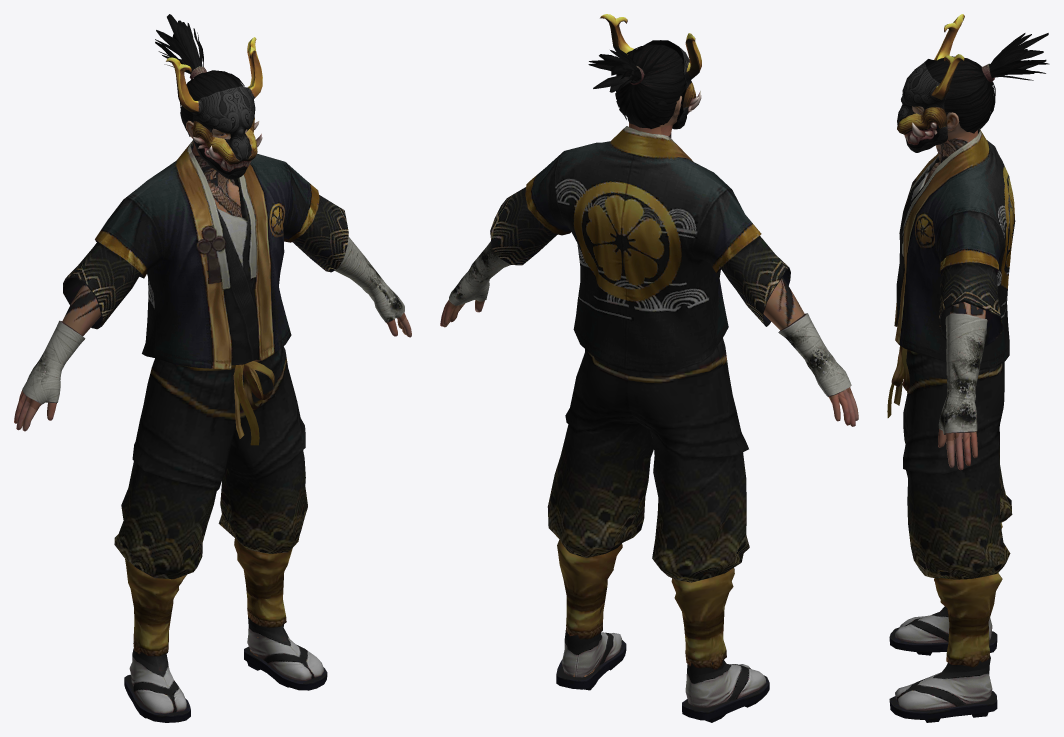
File: season1.glb
3 views of the same model, side by side, from view 1: azimuth 30°, elevation 25°; view 2: azimuth 150°, elevation 25°; view 3: azimuth 270°, elevation 25° (orthographic). The views are drawn at different scales.
Visible parts, largest first — view 1: Object_5, Object_4, Object_3, Object_6, Object_2, Object_7; view 2: Object_5, Object_4, Object_3, Object_7, Object_2, Object_6; view 3: Object_5, Object_4, Object_3, Object_7, Object_6, Object_2.
Part boxes in pixels (x1,y1,x2,y2): Object_5: (22,140,404,404); Object_4: (114,346,307,656); Object_3: (124,617,327,722); Object_6: (166,37,262,179); Object_2: (14,120,411,656); Object_7: (155,14,244,136); Object_5: (449,126,851,396); Object_4: (547,338,749,669); Object_3: (556,628,769,722); Object_7: (588,40,686,128); Object_2: (440,96,858,705); Object_6: (600,14,701,129); Object_5: (894,128,1015,434); Object_4: (887,346,1012,667); Object_3: (889,606,997,722); Object_7: (925,33,1049,133); Object_6: (897,14,964,152); Object_2: (912,106,991,694).
Size of the model in its own units: 1.56 by 2.43 by 0.5514.
6 materials, 6 textured.
